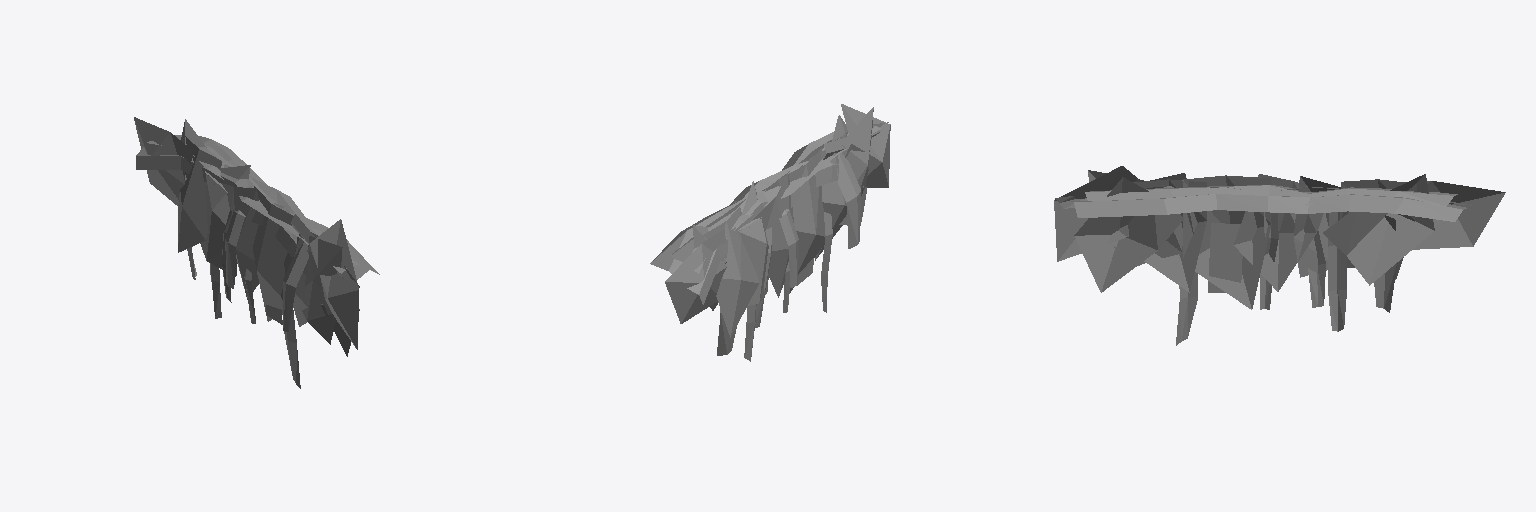
The model's file is Creeper_Vines.obj.
3 views of the same model, side by side, from view 1: azimuth 30°, elevation 25°; view 2: azimuth 150°, elevation 25°; view 3: azimuth 270°, elevation 25° (orthographic).
Parts seen in each view (by area): view 1: Creeper_Vines; view 2: Creeper_Vines; view 3: Creeper_Vines.
Boxes of the visible parts, x1,y1,x2,y2 form: Creeper_Vines: [134, 117, 379, 388]; Creeper_Vines: [650, 104, 890, 361]; Creeper_Vines: [1054, 166, 1505, 345].
Bounding box in the file's own units: 79.91 × 228 × 500.